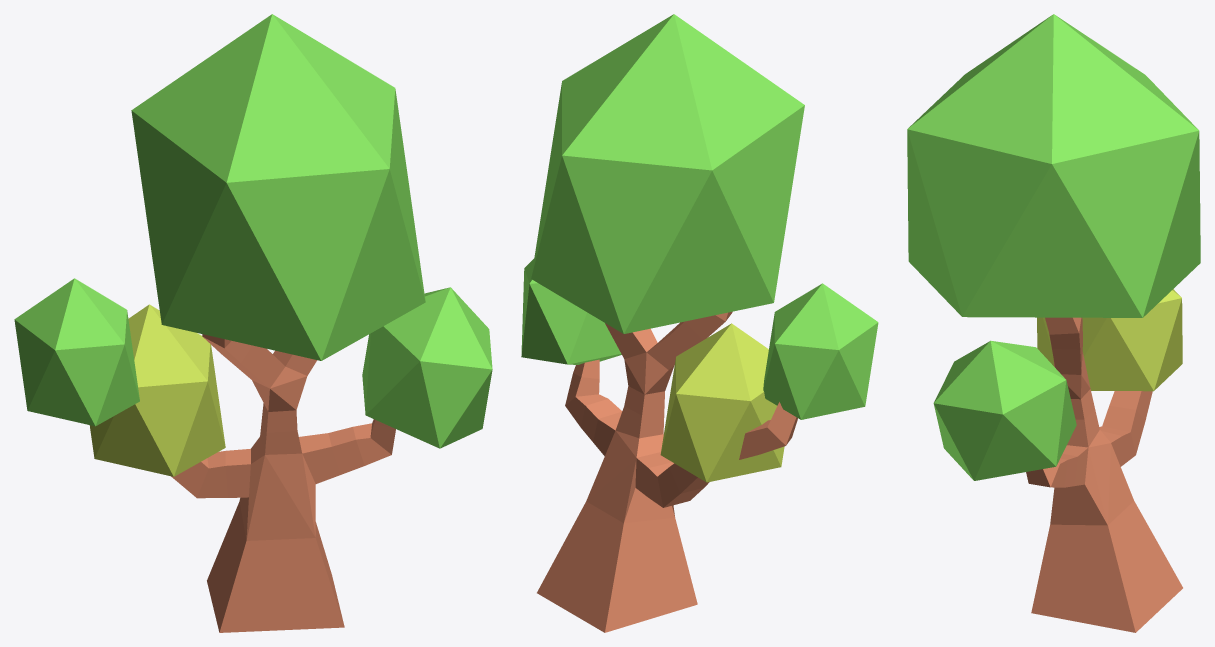
File: Tree 13.fbx
The picture shows the model from 3 angles, left to right: view 1: azimuth 30°, elevation 25°; view 2: azimuth 150°, elevation 25°; view 3: azimuth 270°, elevation 25°; orthographic projection. The views are drawn at different scales.
Visible parts, largest first — view 1: Tree 13; view 2: Tree 13; view 3: Tree 13.
Boxes of the visible parts, left/top/right/bottom form: Tree 13: left=14, top=14, right=492, bottom=632; Tree 13: left=521, top=14, right=878, bottom=632; Tree 13: left=907, top=14, right=1200, bottom=632.
Size of the model in its own units: 464 by 660 by 307.
